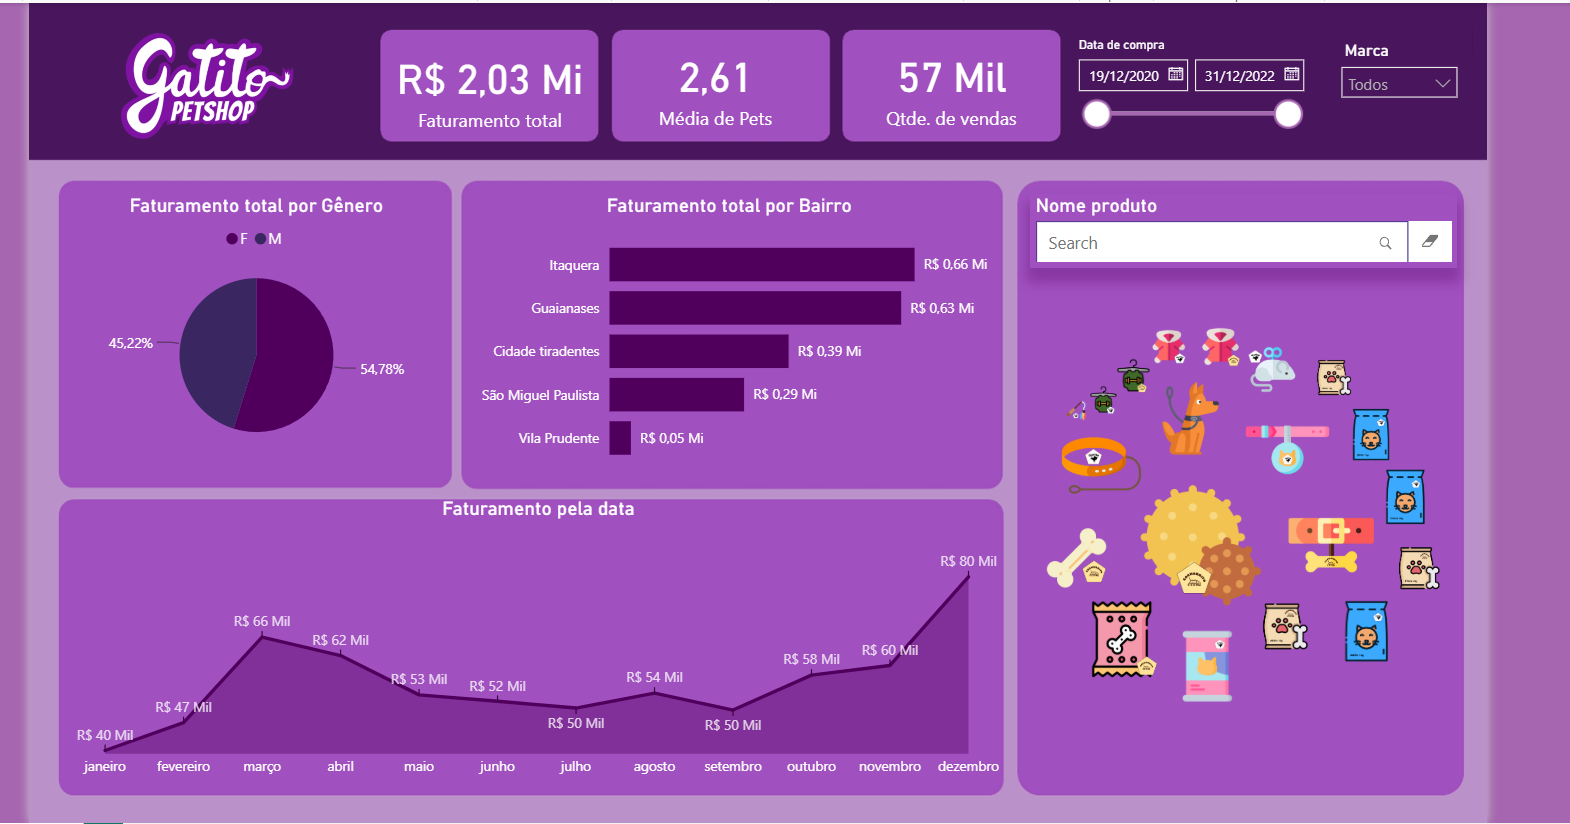

This screenshot's page, from the dashboard's own definition file:
{"tool":"powerbi","page":{"name":"Página 1","canvas":[1280,720],"ordinal":0},"visuals":[{"type":"card","fields":{"Values":["Avg(Clientes.Pets)"]},"box":[513.7,25.5,178.2,94.8],"z":0},{"type":"card","fields":{"Values":["Sum(Vendas.Quantidade)"]},"box":[723.5,28.1,173,88.7],"z":1000},{"type":"card","fields":{"Values":["Vendas.Faturamento total"]},"box":[310.8,28.1,187.9,93.1],"z":2000},{"type":"pieChart","fields":{"Category":["Clientes.Gênero"],"Y":["Vendas.Faturamento total"]},"box":[34.2,167.7,331,235.3],"z":3000},{"type":"clusteredBarChart","fields":{"Category":["Clientes.Bairro"],"Y":["Vendas.Faturamento total"]},"box":[383.7,167.7,462.7,250.2],"z":4000},{"type":"areaChart","title":"Faturamento pela data","fields":{"Category":["Vendas.Data de compra.Variation.Hierarquia de datas.Ano","Vendas.Data de compra.Variation.Hierarquia de datas.Trimestre","Vendas.Data de compra.Variation.Hierarquia de datas.Mês","Vendas.Data de compra.Variation.Hierarquia de datas.Dia"],"Y":["Vendas.Faturamento total"]},"box":[34.2,433.8,826.2,263.4],"z":5000},{"type":"ImageGrid_FC5183B9_926C_45E0_B5F7_0CE9EAF1DA9B","fields":{"ImageURL":["Produtos.Url img"]},"box":[865.8,188.8,401.3,520.7],"z":6000},{"type":"textFilter25A4896A83E0487089E2B90C9AE57C8A","fields":{"field":["Produtos.Nome produto"]},"box":[878.9,167.7,374.9,65],"z":7000},{"type":"slicer","fields":{"Values":["Produtos.Marca"]},"box":[1142.3,28.1,122,60.6],"z":8000},{"type":"slicer","fields":{"Values":["Vendas.Data de compra"]},"box":[908.8,25.5,217.8,91.3],"z":9000}]}

Visuals, with their boxes in screenshot pixels (x1, y1, x2, y2):
card - Avg(Clientes.Pets): <box>602,0,803,103</box>
card - Sum(Vendas.Quantidade): <box>839,0,1035,99</box>
card - Vendas.Faturamento total: <box>372,0,585,104</box>
pieChart - Clientes.Gênero x Vendas.Faturamento total: <box>59,157,434,423</box>
clusteredBarChart - Clientes.Bairro x Vendas.Faturamento total: <box>454,157,978,440</box>
"Faturamento pela data" areaChart: <box>59,458,994,756</box>
ImageGrid_FC5183B9_926C_45E0_B5F7_0CE9EAF1DA9B - Produtos.Url img: <box>1000,181,1454,770</box>
textFilter25A4896A83E0487089E2B90C9AE57C8A - Produtos.Nome produto: <box>1015,157,1439,231</box>
slicer - Produtos.Marca: <box>1313,0,1451,68</box>
slicer - Vendas.Data de compra: <box>1048,0,1295,99</box>
